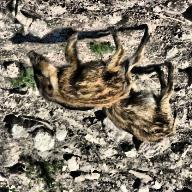boar: (19, 23, 147, 117), (99, 68, 178, 157)
